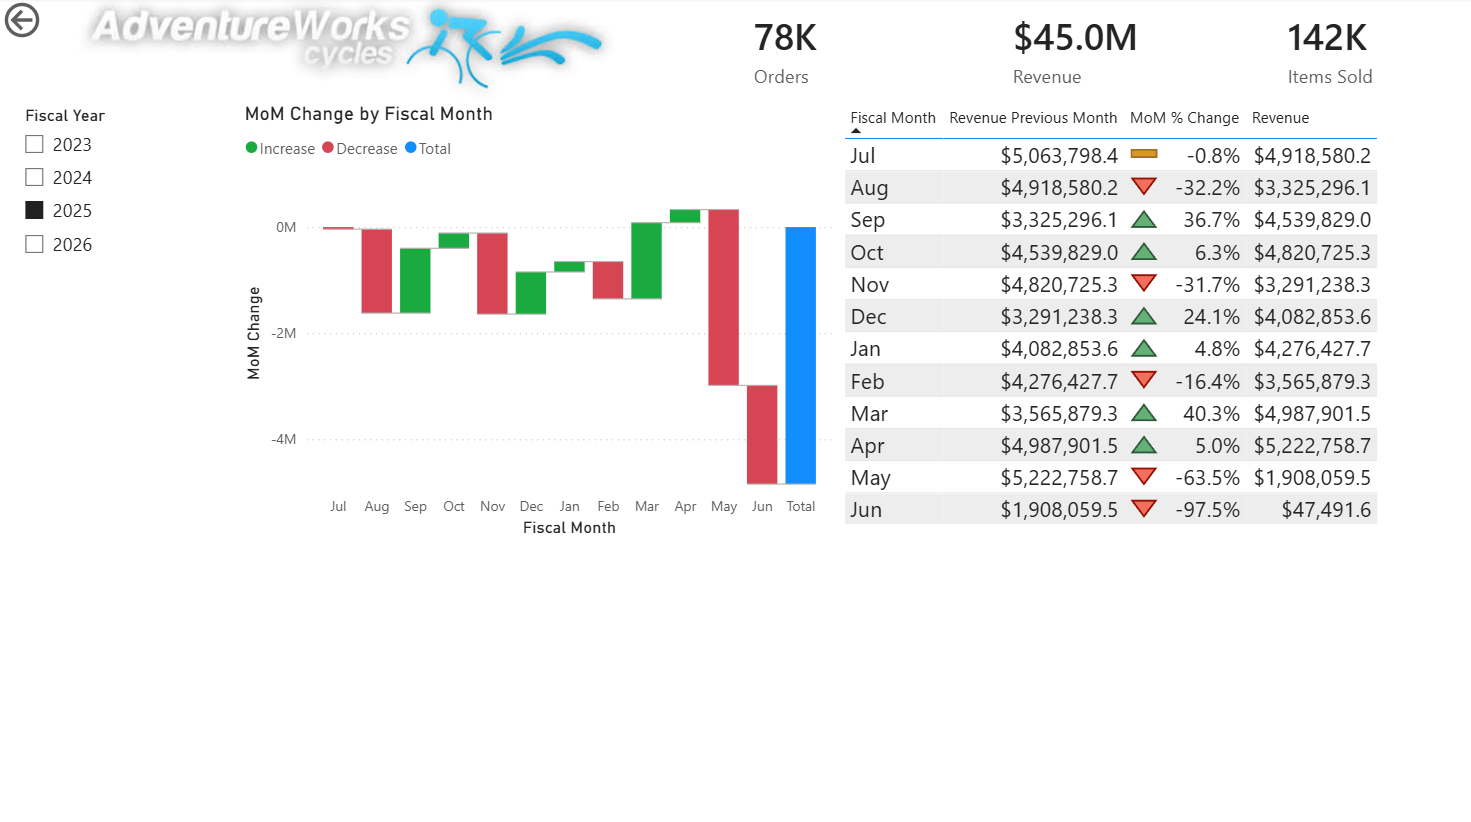

This screenshot's page, from the dashboard's own definition file:
{"tool":"powerbi","page":{"name":"Sales Trends","canvas":[1280,720],"ordinal":1},"visuals":[{"type":"image","box":[8.9,0,586.8,90.4],"z":0},{"type":"cardVisual","fields":{"Data":["Order Items.Orders"]},"box":[629.8,0,133.4,90.4],"z":1000},{"type":"cardVisual","fields":{"Data":["Order Items.Revenue"]},"box":[855.4,0,175.1,90.5],"z":2000},{"type":"cardVisual","fields":{"Data":["Order Items.Items Sold"]},"box":[1093.7,0,133.1,90.6],"z":3000},{"type":"slicer","fields":{"Values":["Calendar.Fiscal Year"]},"box":[9.3,89.6,199.2,193],"z":4000},{"type":"waterfallChart","fields":{"Category":["Calendar.Fiscal Month","Products.Product Subcategory"],"Y":["Order Items.MoM Change"]},"box":[208.4,91.1,520.3,382.9],"z":5000},{"type":"tableEx","fields":{"Values":["Calendar.Fiscal Month","Order Items.Revenue Previous Month","Order Items.MoM % Change","Order Items.Revenue"]},"box":[728.8,89.6,525,384.5],"z":6000},{"type":"actionButton","box":[0,0,100,40],"z":7000}]}

Visuals, with their boxes in screenshot pixels (x1, y1, x2, y2), scaled from the page's 1280x720 canvas onto the 1471x822 screenshot:
image: (10,0,685,103)
cardVisual - Order Items.Orders: (724,0,877,103)
cardVisual - Order Items.Revenue: (983,0,1184,103)
cardVisual - Order Items.Items Sold: (1257,0,1410,103)
slicer - Calendar.Fiscal Year: (11,102,240,323)
waterfallChart - Calendar.Fiscal Month x Products.Product Subcategory: (239,104,837,541)
tableEx - Calendar.Fiscal Month x Order Items.Revenue Previous Month: (838,102,1441,541)
actionButton: (0,0,115,46)
